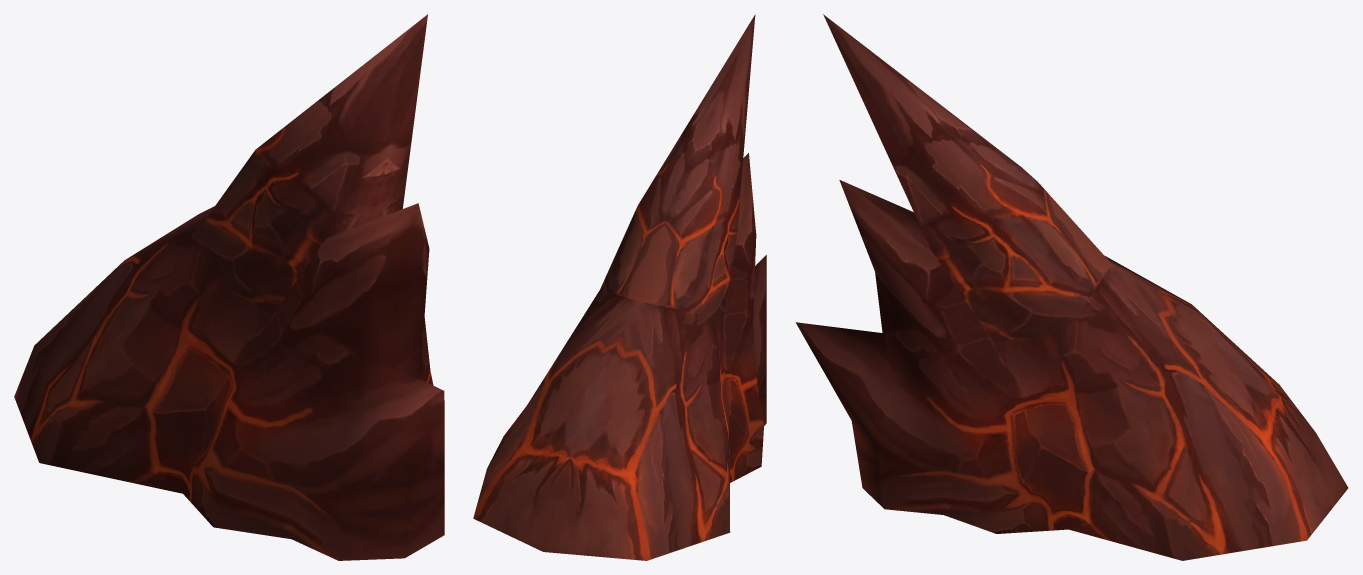
The model's file is Dragon_Stone_01.FBX.
3 views of the same model, side by side, from view 1: azimuth 30°, elevation 25°; view 2: azimuth 150°, elevation 25°; view 3: azimuth 270°, elevation 25° (orthographic). The views are drawn at different scales.
Visible parts, largest first — view 1: Dragon_Stone_01; view 2: Dragon_Stone_01; view 3: Dragon_Stone_01.
Part boxes in pixels (left/top/right/bottom): Dragon_Stone_01: left=14, top=14, right=444, bottom=560; Dragon_Stone_01: left=473, top=14, right=766, bottom=560; Dragon_Stone_01: left=795, top=14, right=1348, bottom=560.
Size of the model in its own units: 3.22 by 4.92 by 5.19.
